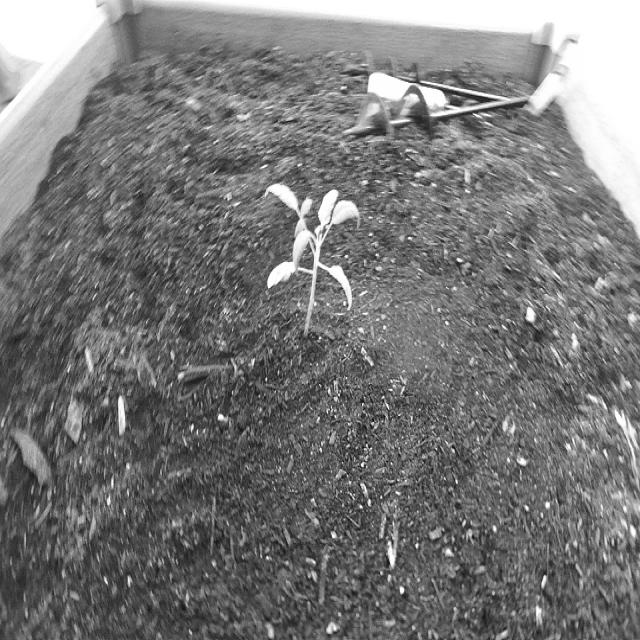Healthy: (262, 175, 363, 348)
